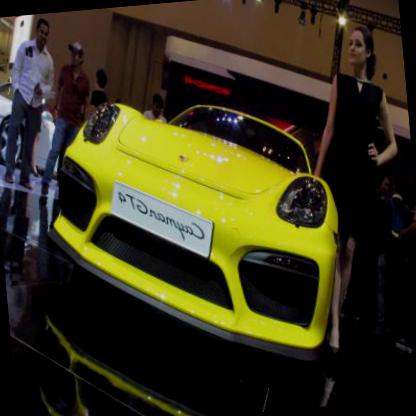car: (36, 82, 350, 380), (0, 81, 63, 185)
